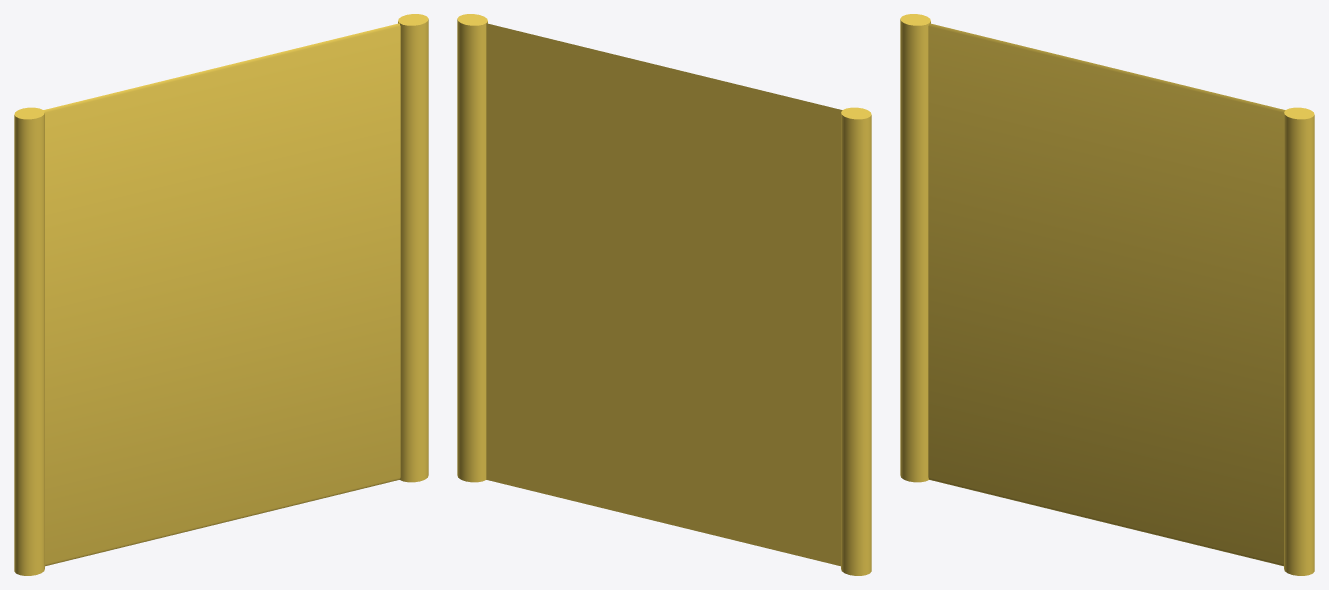
Rendered from yellowgate.fbx.
3 renders of one model, left to right at view 1: azimuth 30°, elevation 25°; view 2: azimuth 150°, elevation 25°; view 3: azimuth 330°, elevation 25°, orthographic.
Parts seen in each view (by area): view 1: yellowgate; view 2: yellowgate; view 3: yellowgate.
Part boxes in pixels (bbox=[...]): yellowgate: bbox=[14, 14, 428, 575]; yellowgate: bbox=[457, 14, 871, 575]; yellowgate: bbox=[900, 14, 1314, 575].
Size of the model in its own units: 250 by 265 by 14.33.
